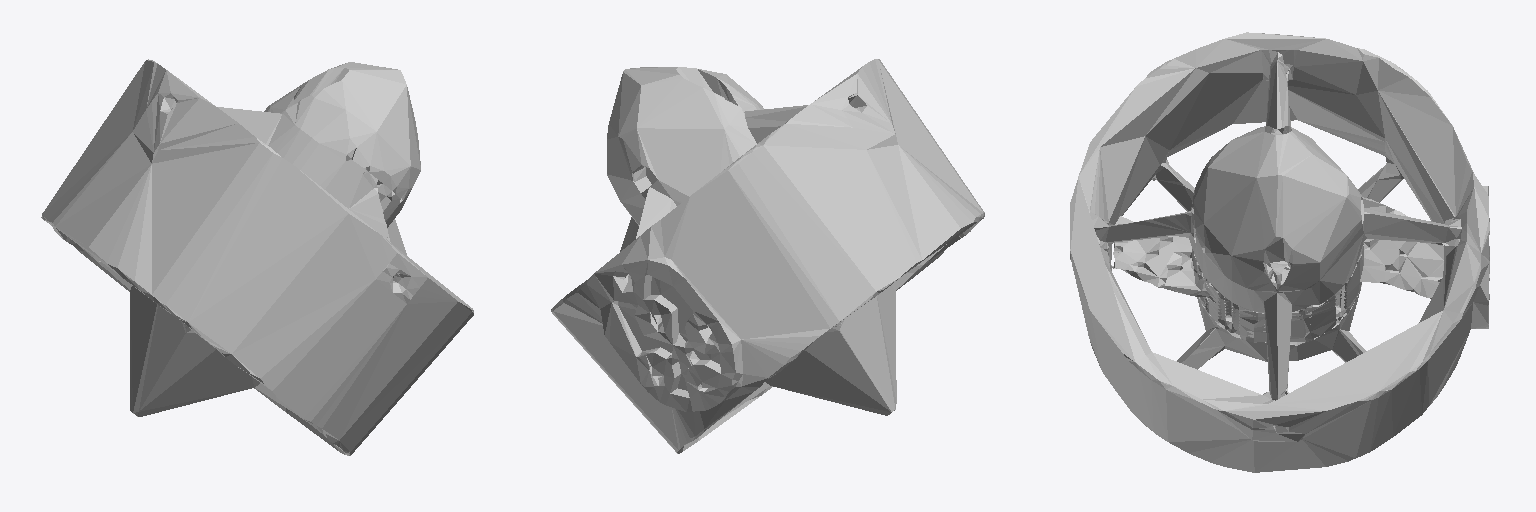
Rendered from rb-thruster_visual_rb-thruster.obj.
3 views of the same model, side by side, from view 1: azimuth 30°, elevation 25°; view 2: azimuth 150°, elevation 25°; view 3: azimuth 270°, elevation 25° (orthographic).
Parts seen in each view (by area): view 1: rb-thruster_visual_rb-thruster; view 2: rb-thruster_visual_rb-thruster; view 3: rb-thruster_visual_rb-thruster.
Part boxes in pixels (x1,y1,x2,y2): rb-thruster_visual_rb-thruster: (41, 59, 473, 455); rb-thruster_visual_rb-thruster: (551, 59, 984, 453); rb-thruster_visual_rb-thruster: (1070, 32, 1489, 472).
Bounding box in the file's own units: 0.0964 × 0.0963 × 0.0975.